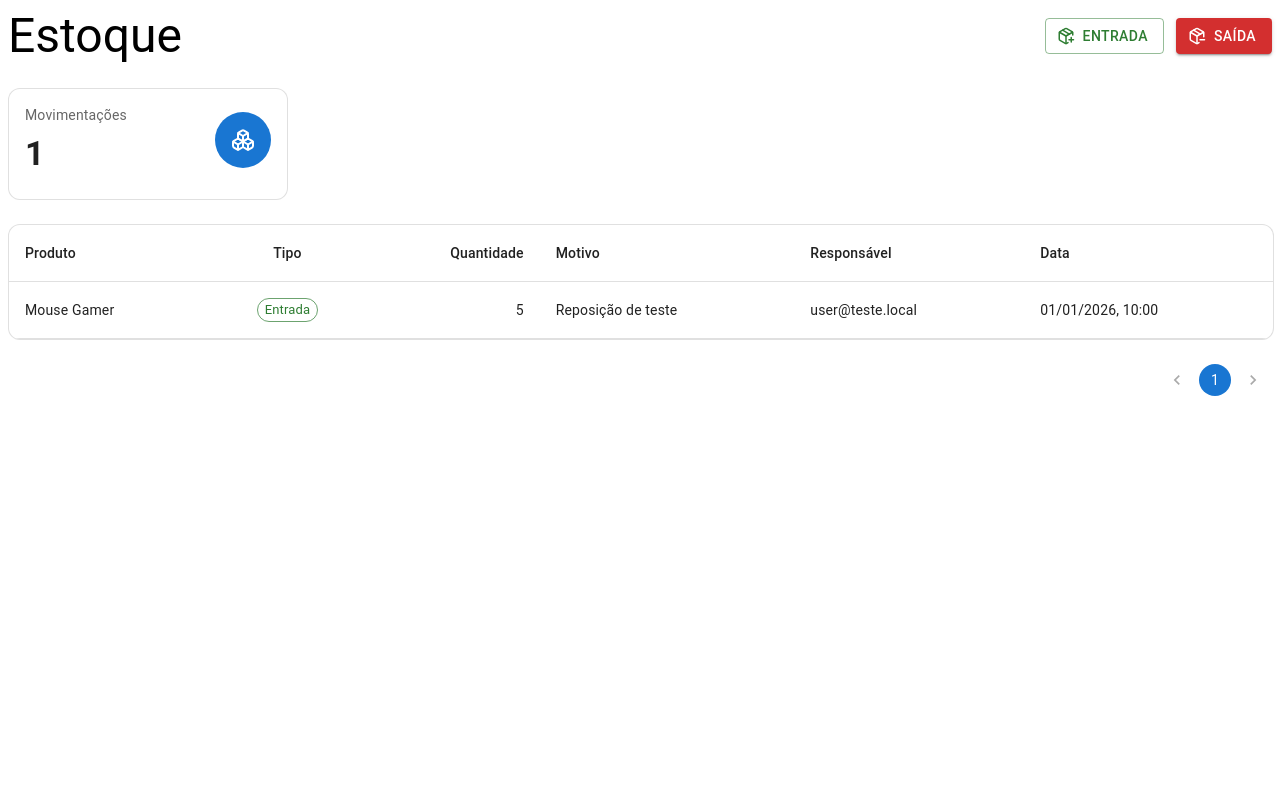
Scenario: EstoquePage › deve registrar uma entrada após preencher o diálogo
Expected: the text "Mouse Gamer" is shown, [9,282,210,338]
Step 1. Click the button "Entrada" → (1104, 36), box [1045,18,1164,54]
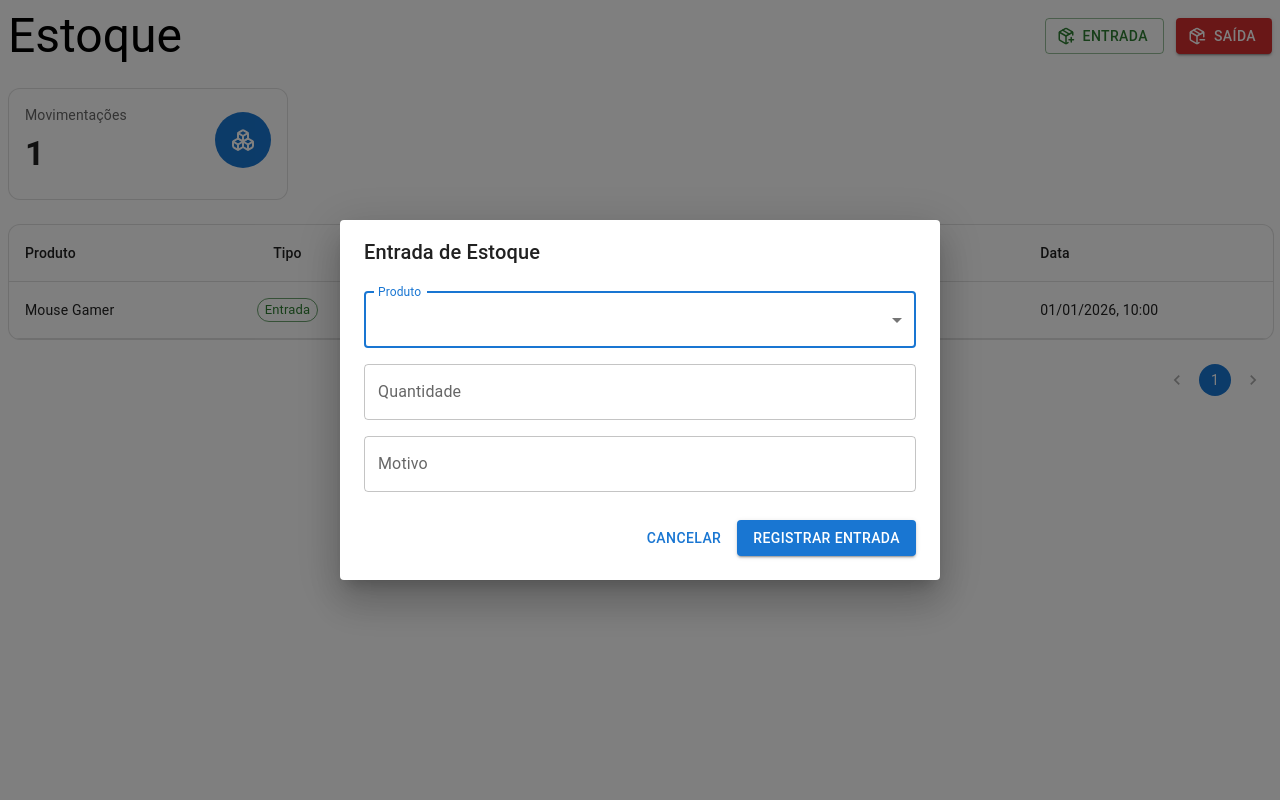
Result: the heading "Entrada de Estoque" is shown at [364,240,540,264]
Step 2. Click the dropdown named "Produto" → (640, 320), box [364,292,916,348]
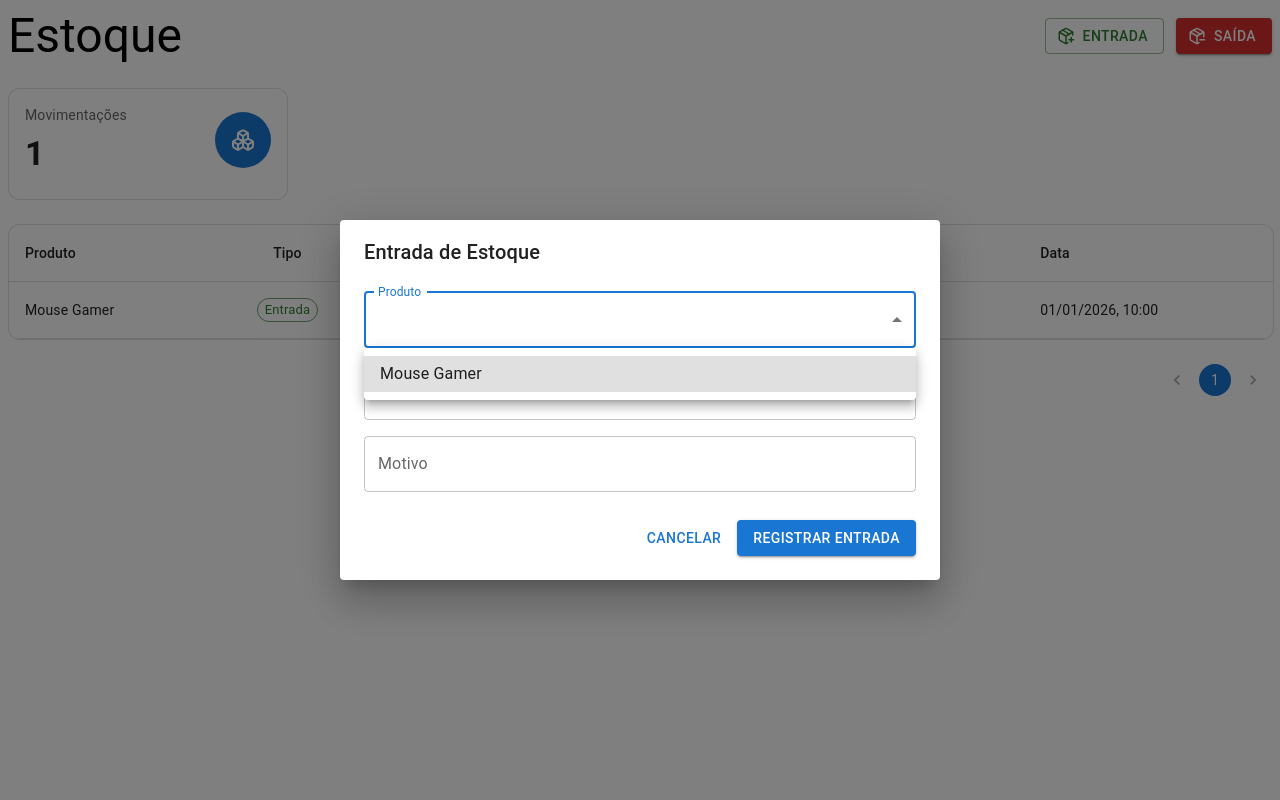
Step 3. Click the option "Mouse Gamer" → (431, 374), box [364,356,916,392]
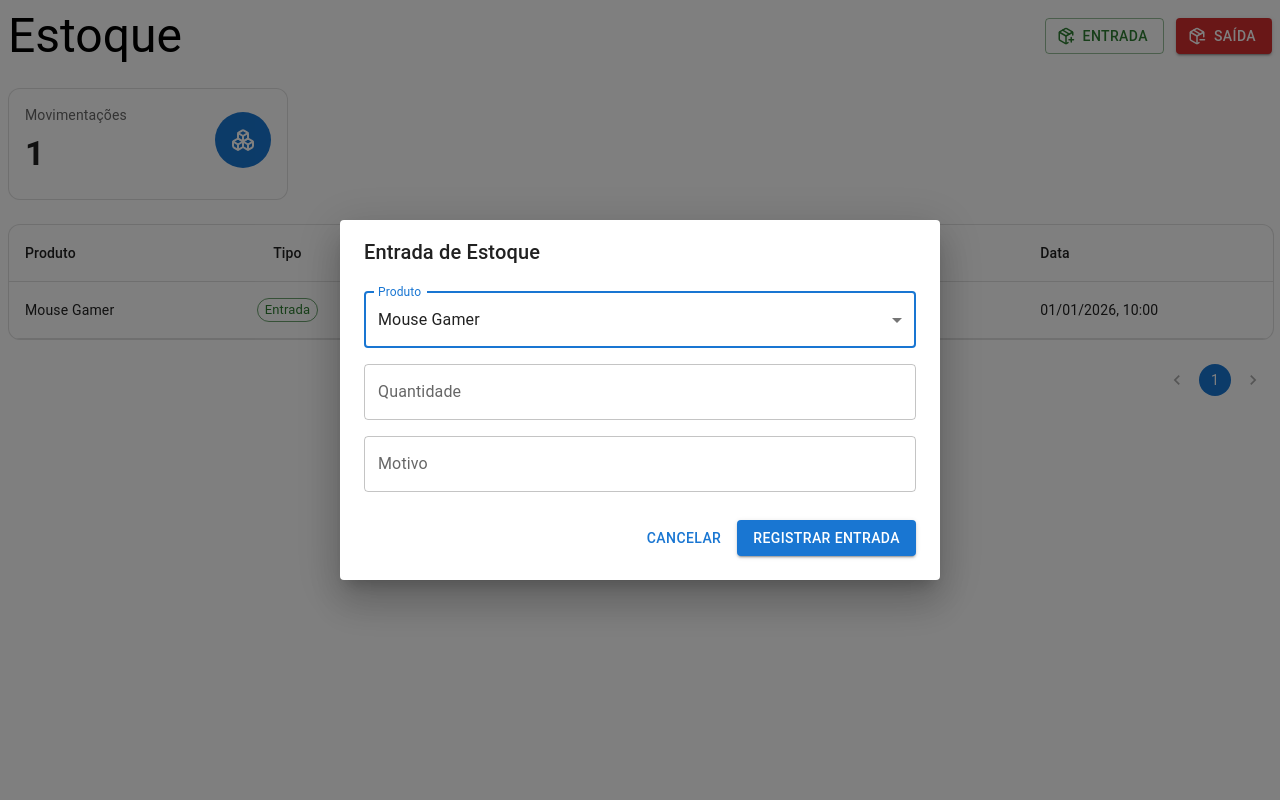
Step 4. Type "5" into the field labelled "Quantidade" → (640, 392), box [364,364,916,420]
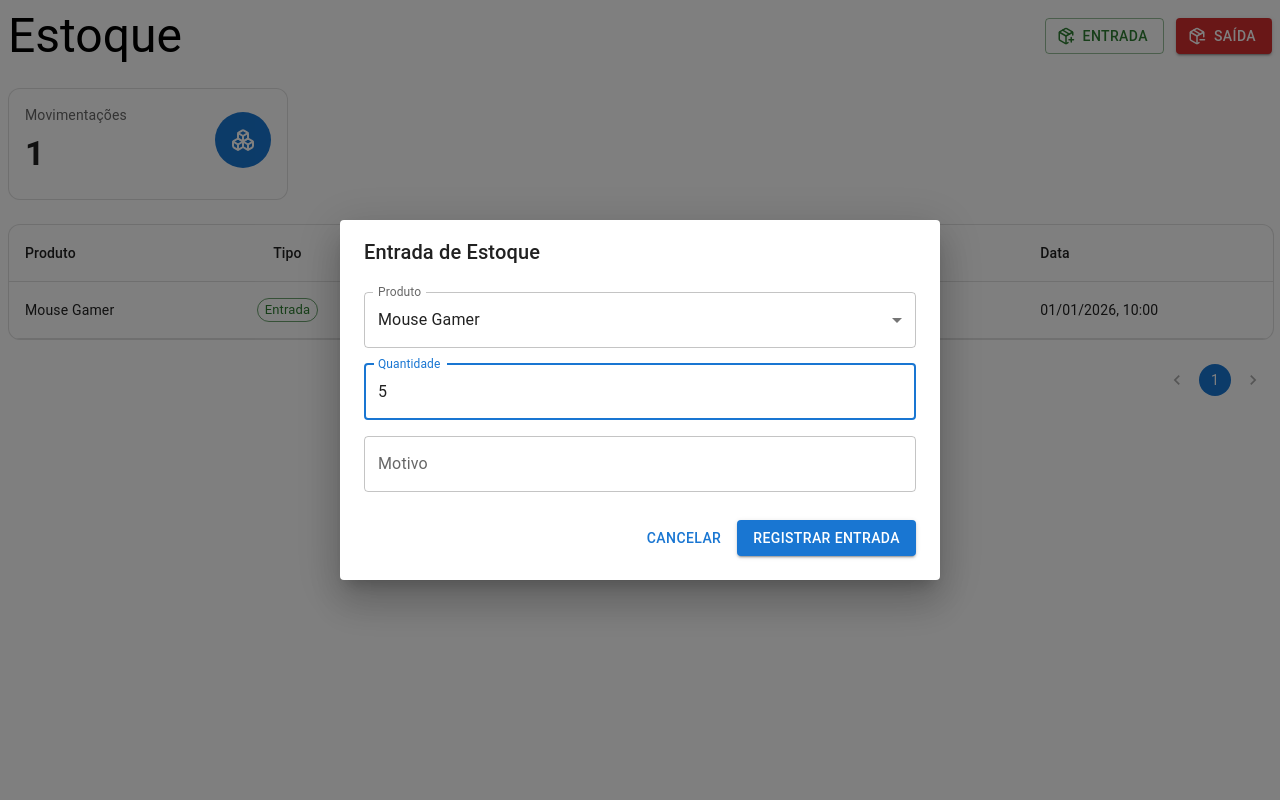
Step 5. Type "Reposição" into the field labelled "Motivo" → (640, 464), box [364,436,916,492]
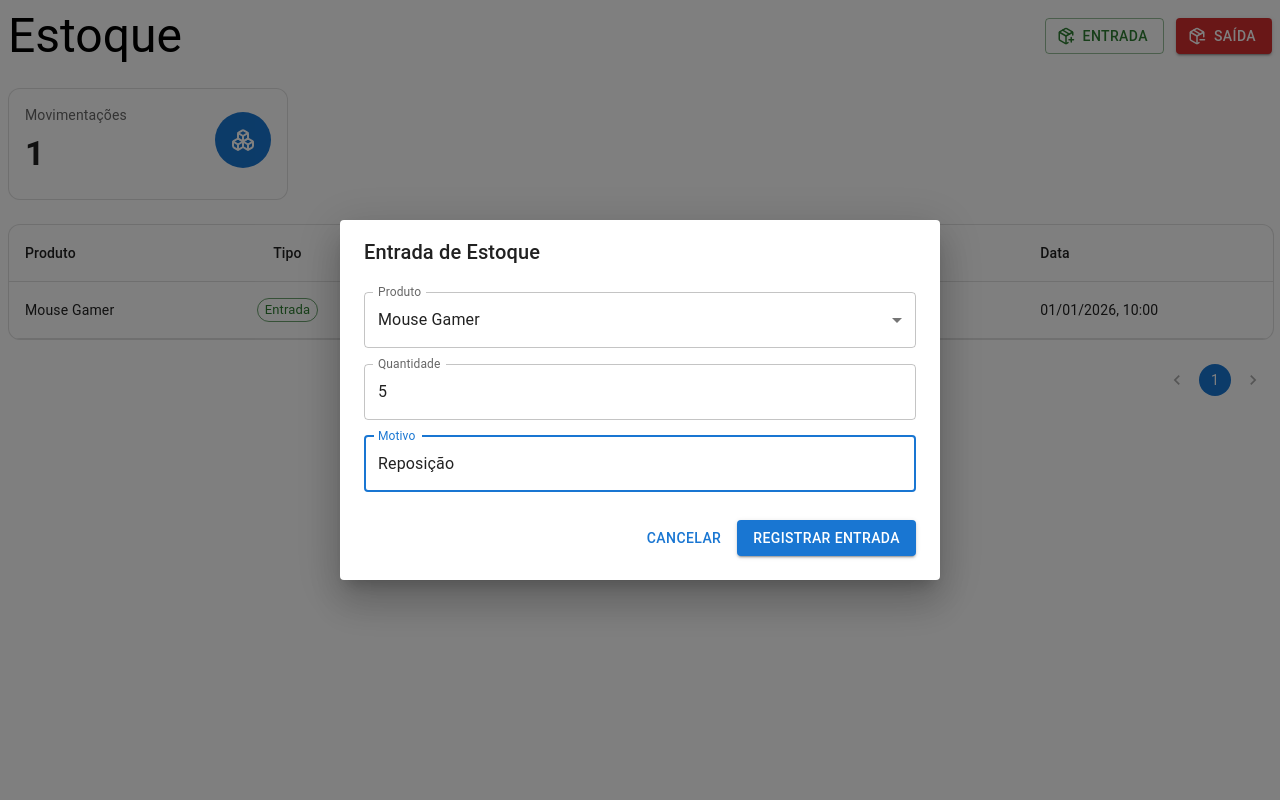
Step 6. Click the button "Registrar entrada" → (827, 538), box [737,520,916,556]
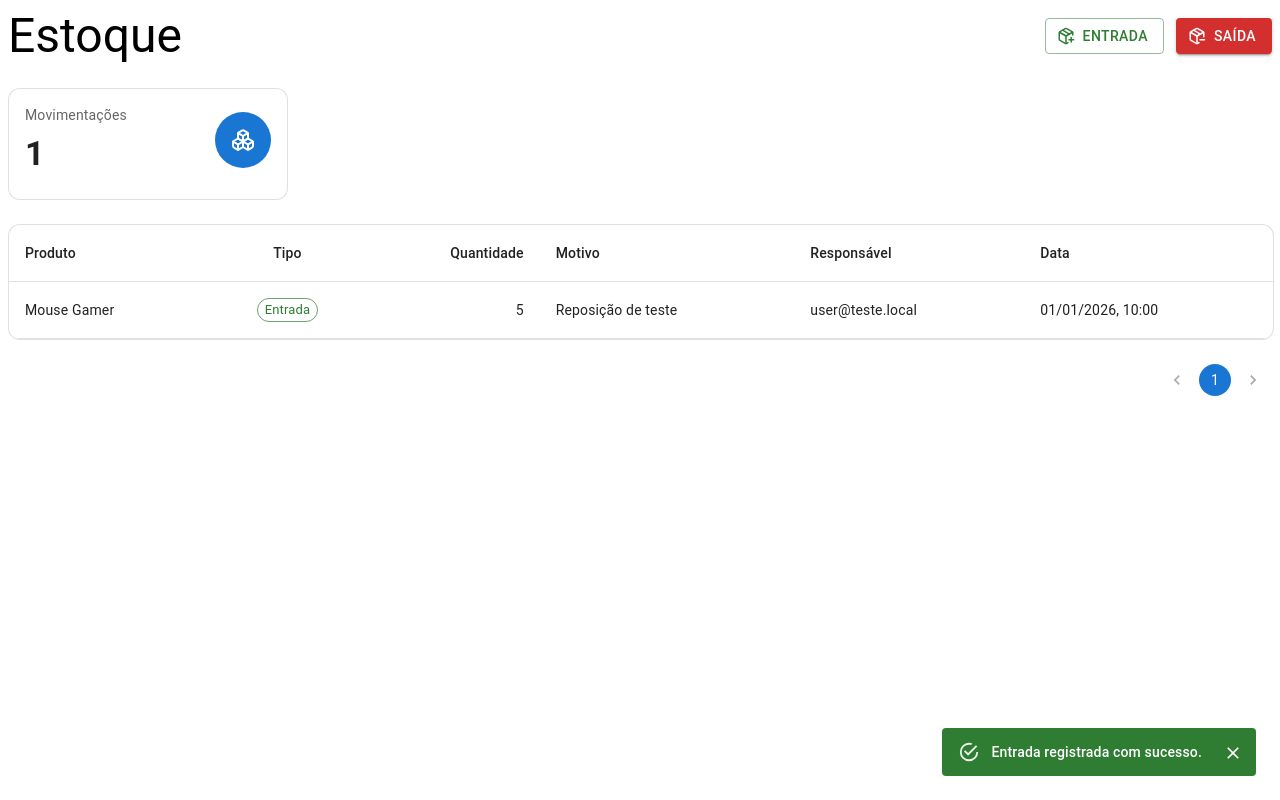
Result: the text "Entrada registrada com sucesso." is shown at [992,744,1202,760]
